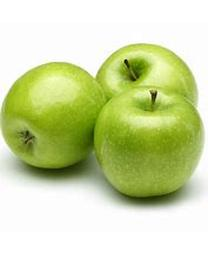apple: (93, 87, 205, 198), (0, 61, 105, 169), (95, 42, 198, 104)
